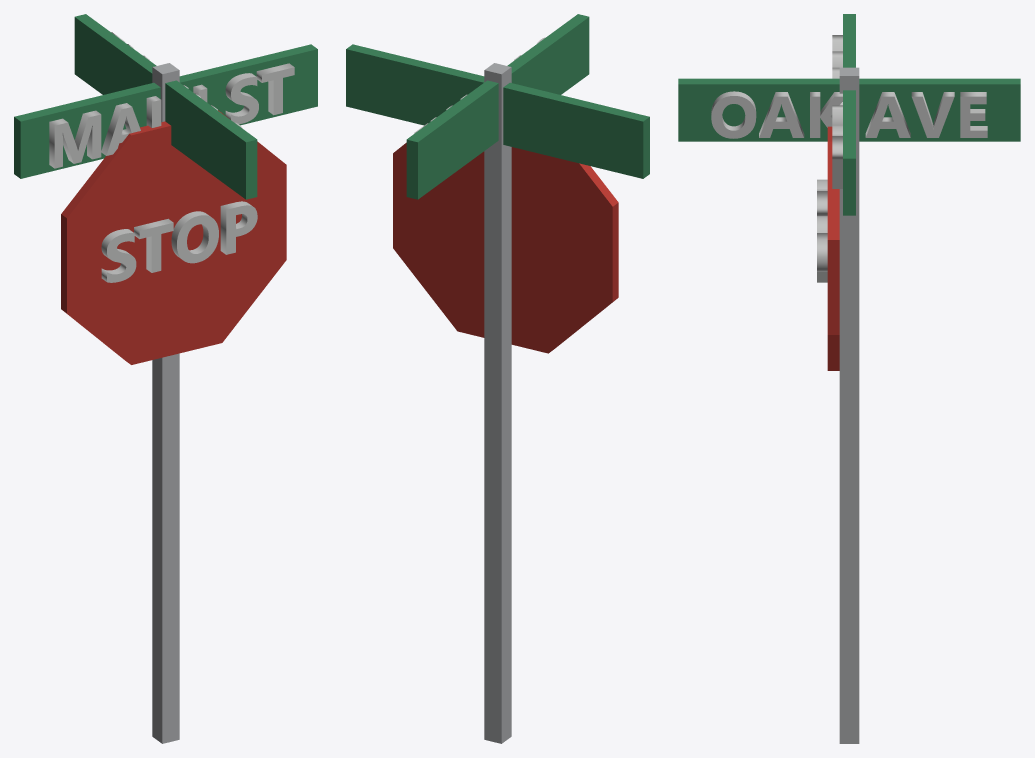
Rendered from city_sign.fbx.
3 renders of one model, left to right at view 1: azimuth 30°, elevation 25°; view 2: azimuth 150°, elevation 25°; view 3: azimuth 270°, elevation 25°, orthographic.
Visible parts, largest first — view 1: red_1, green_1, paintwhite_1, galv_1; view 2: red_1, green_1, galv_1; view 3: green_1, galv_1, paintwhite_1, red_1.
Part boxes in pixels (<box>): red_1: <box>61,110,286,364</box>; green_1: <box>14,14,317,199</box>; paintwhite_1: <box>49,32,294,282</box>; galv_1: <box>152,63,179,743</box>; red_1: <box>393,142,618,353</box>; green_1: <box>346,14,649,199</box>; galv_1: <box>484,63,511,743</box>; green_1: <box>678,14,1020,215</box>; galv_1: <box>839,67,859,743</box>; paintwhite_1: <box>711,35,987,282</box>; red_1: <box>827,126,839,370</box>.
Size of the model in its own units: 0.13 by 0.28 by 0.13.
